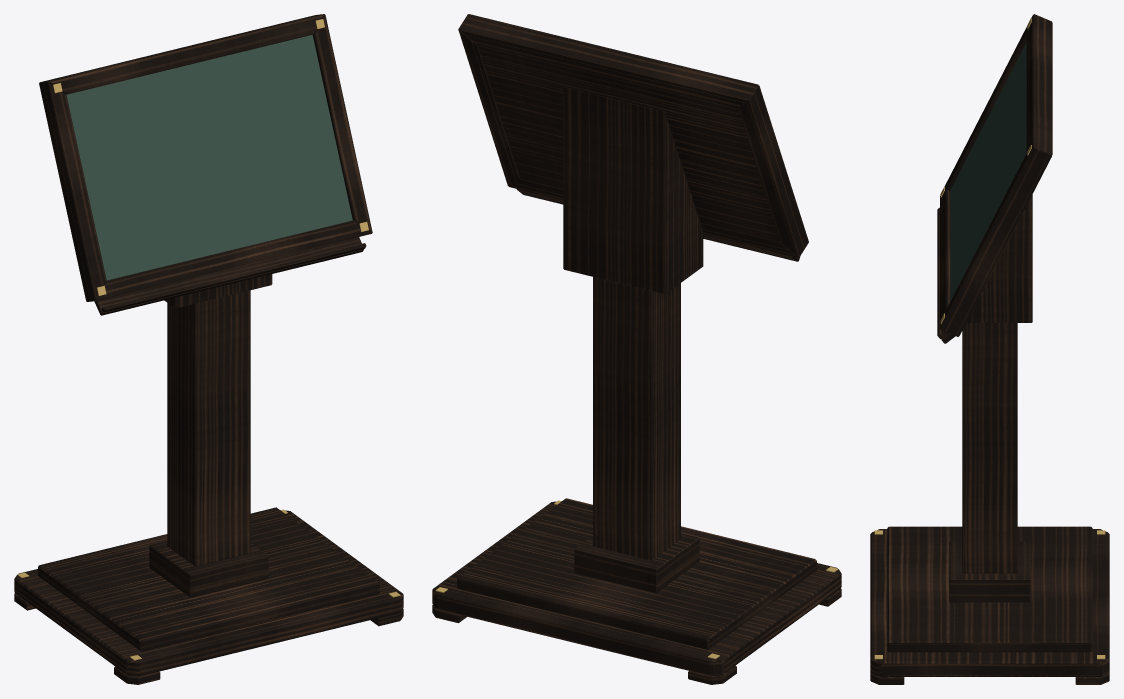
The model's file is 18B_Atril.fbx.
3 renders of one model, left to right at view 1: azimuth 30°, elevation 25°; view 2: azimuth 150°, elevation 25°; view 3: azimuth 270°, elevation 25°, orthographic. The views are drawn at different scales.
Parts seen in each view (by area): view 1: SM_18B_Atril, SM_18B_Interfaz; view 2: SM_18B_Atril; view 3: SM_18B_Atril, SM_18B_Interfaz.
Part boxes in pixels (<box>): SM_18B_Atril: <box>14,14,403,684</box>; SM_18B_Interfaz: <box>66,34,352,280</box>; SM_18B_Atril: <box>432,14,841,684</box>; SM_18B_Atril: <box>870,14,1109,684</box>; SM_18B_Interfaz: <box>950,42,1026,300</box>.
Size of the model in its own units: 0.74 by 1.39 by 0.56.
